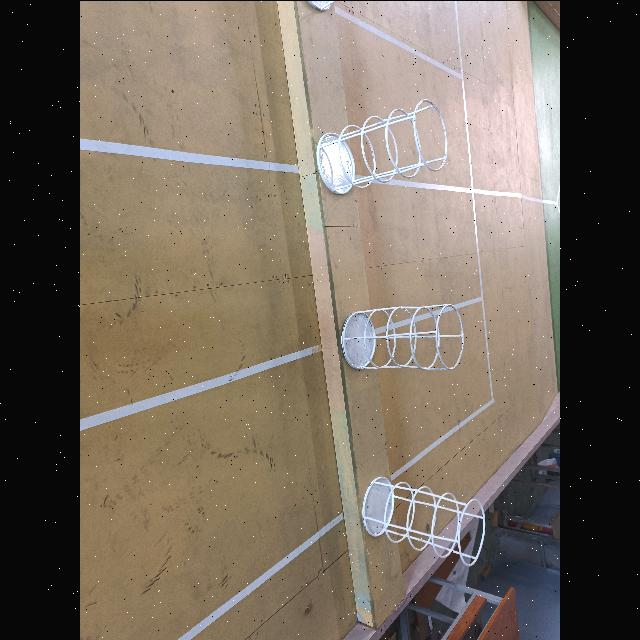S: (312, 95, 452, 197), (360, 472, 488, 570), (338, 301, 468, 371), (302, 0, 344, 16)
